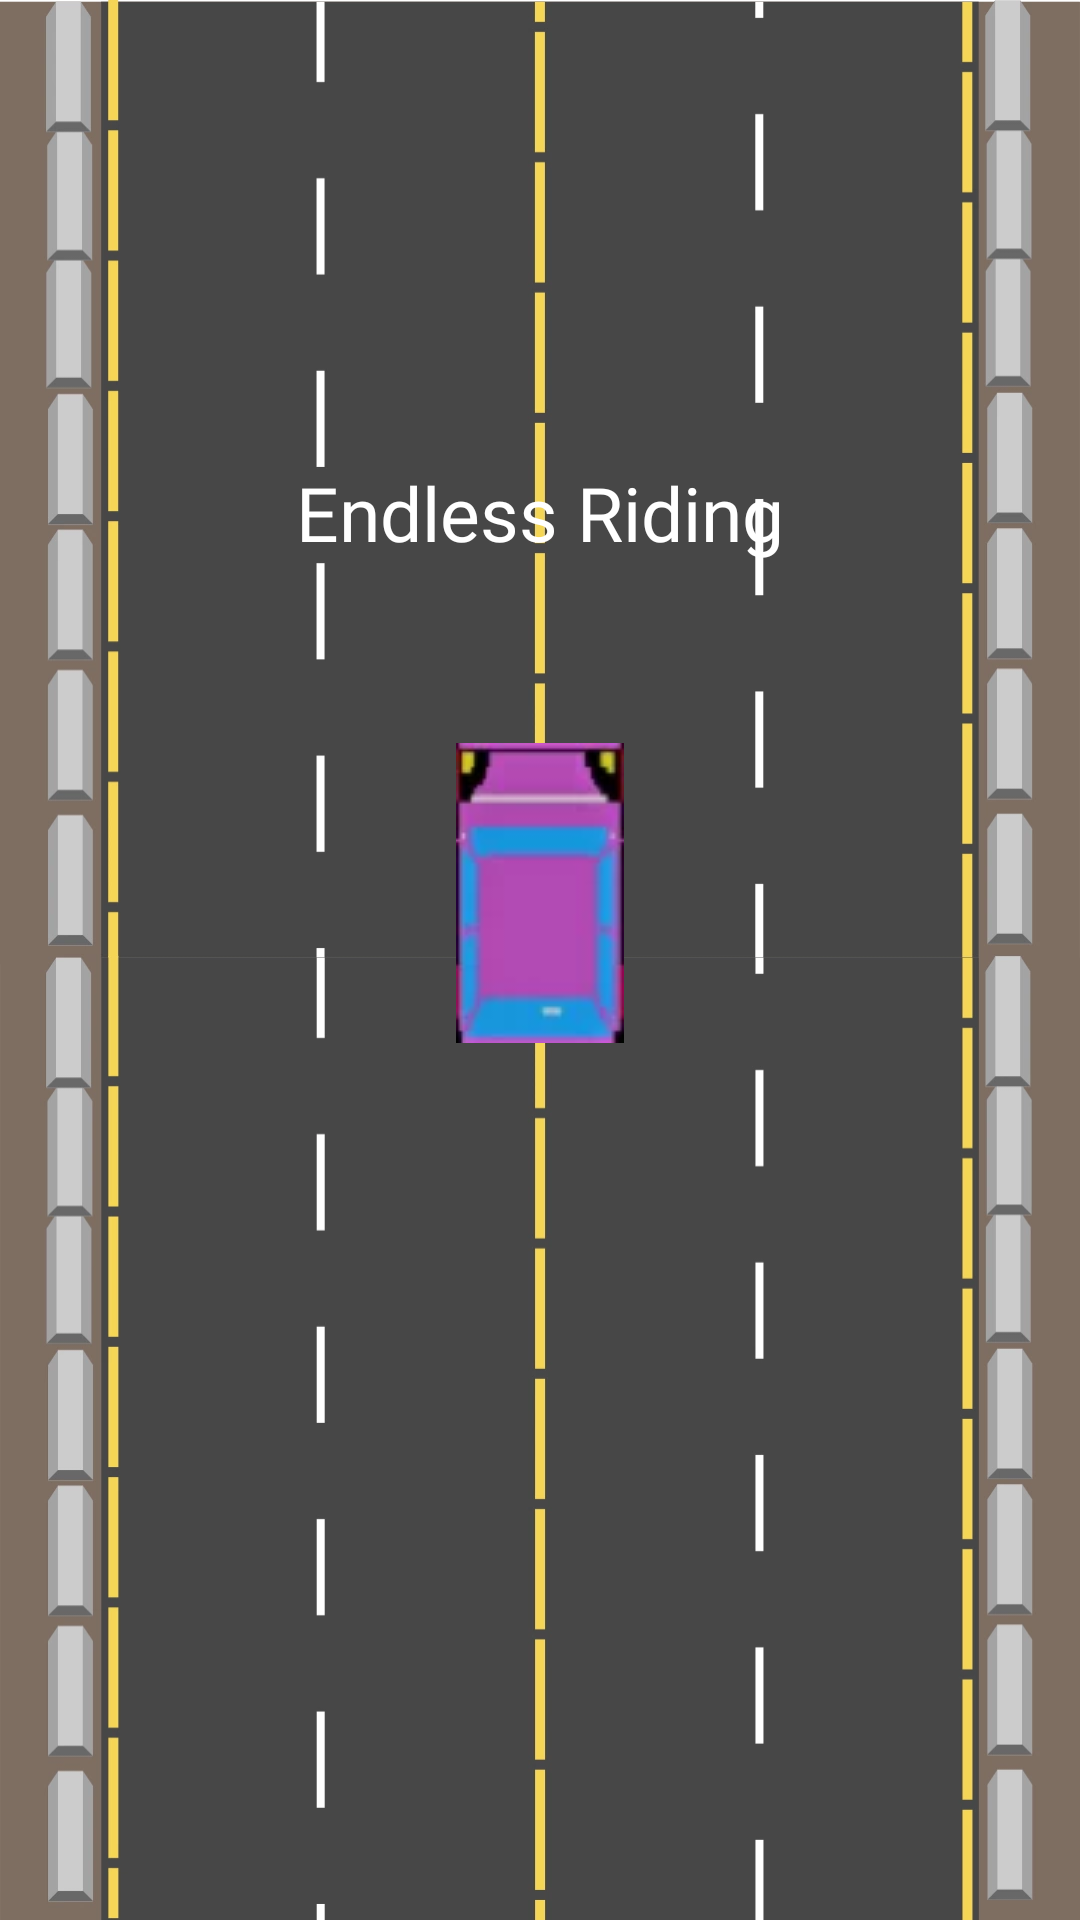

Named icons in this screenshot (1080*1920) and their bounding boxes, (x1, y1, x2, y2):
car: (456, 743, 624, 1043)
